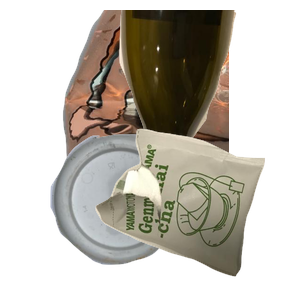glass: (117, 10, 300, 190)
metal: (60, 10, 300, 190)
plastic: (48, 132, 224, 300)
trash: (93, 126, 300, 300)
